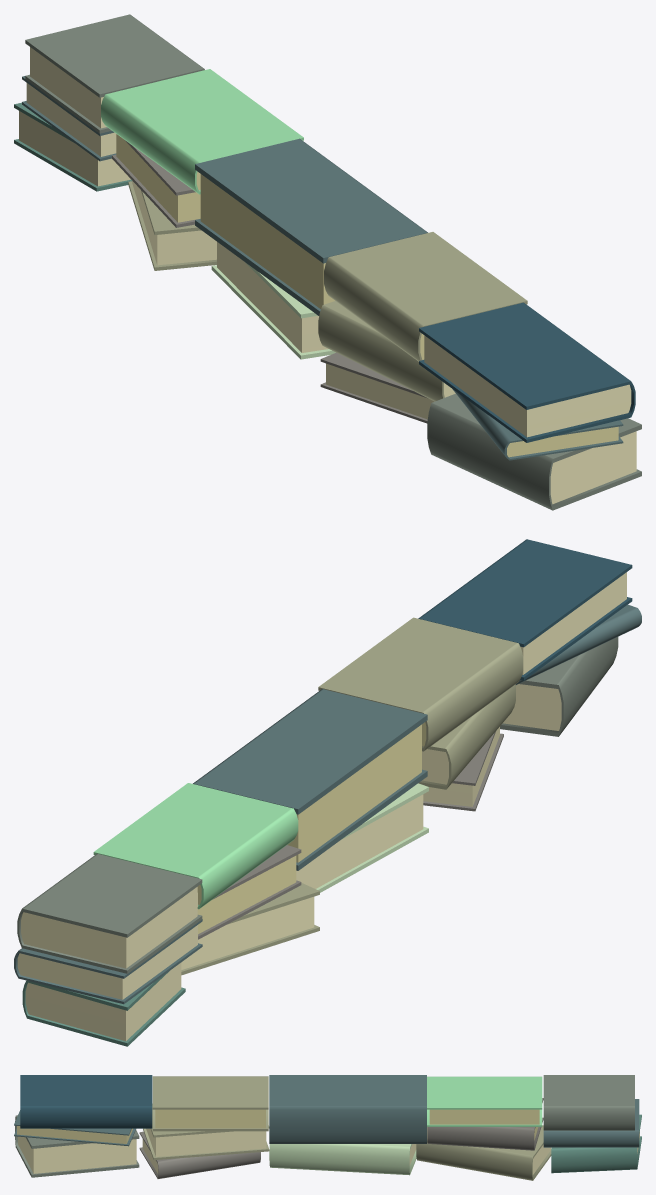
File: 01_Platform.fbx
3 views of the same model, one above another, from view 1: azimuth 30°, elevation 25°; view 2: azimuth 150°, elevation 25°; view 3: azimuth 270°, elevation 25° (orthographic). The views are drawn at different scales.
Visible parts, largest first — view 1: Szene_PLATFORM_big; view 2: Szene_PLATFORM_big; view 3: Szene_PLATFORM_big.
Part boxes in pixels (x1,y1,x2,y2): Szene_PLATFORM_big: (14, 14, 641, 510); Szene_PLATFORM_big: (14, 539, 641, 1046); Szene_PLATFORM_big: (14, 1075, 641, 1180).
Bounding box in the file's own units: 10.15 × 6.05 × 52.56.
